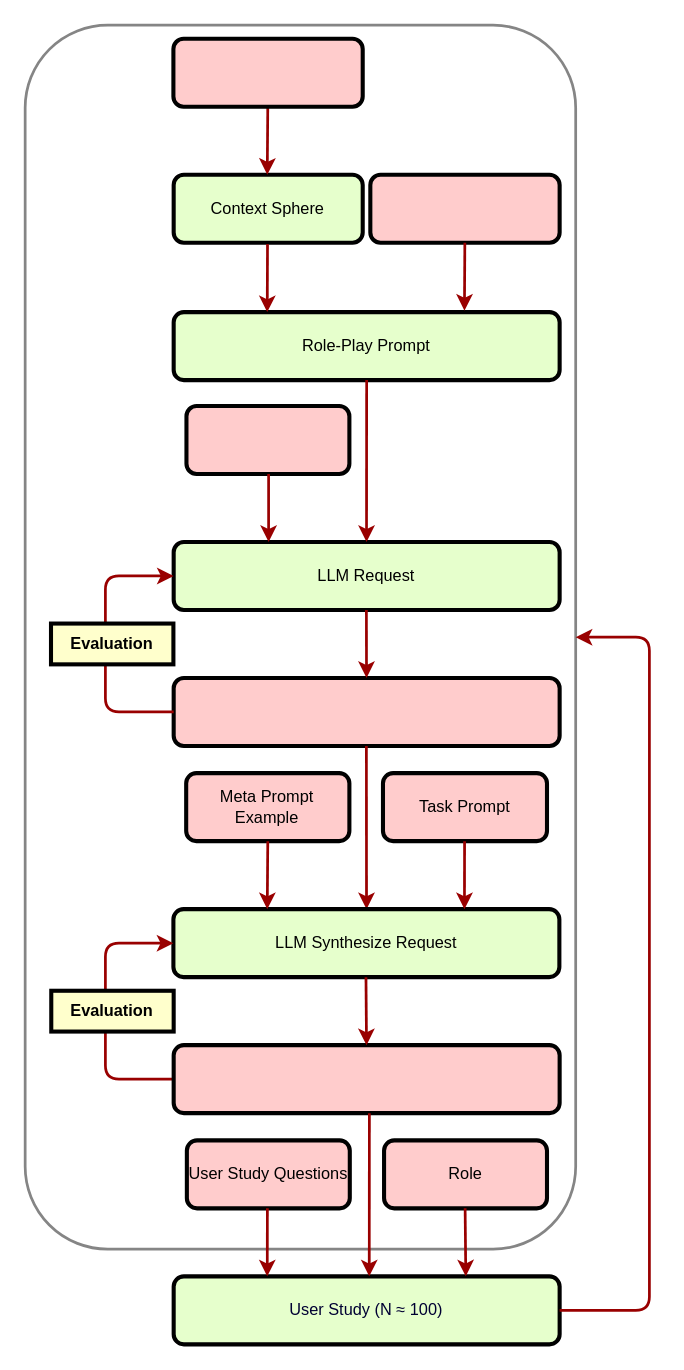
The diagram is 684 pixels wide and 1370 high, and some of its shapes have lost their labels. Each missing label, with the box of its shape:
Comments, Replies, Article Context, ...: (171, 36, 364, 108)
Response Schema: (184, 403, 351, 475)
Role, Task: (368, 172, 561, 244)
User Analysis in JSON: (171, 675, 561, 747)
User Report in Markdown: (171, 1042, 561, 1115)
